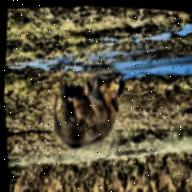boar: (37, 34, 162, 174)
